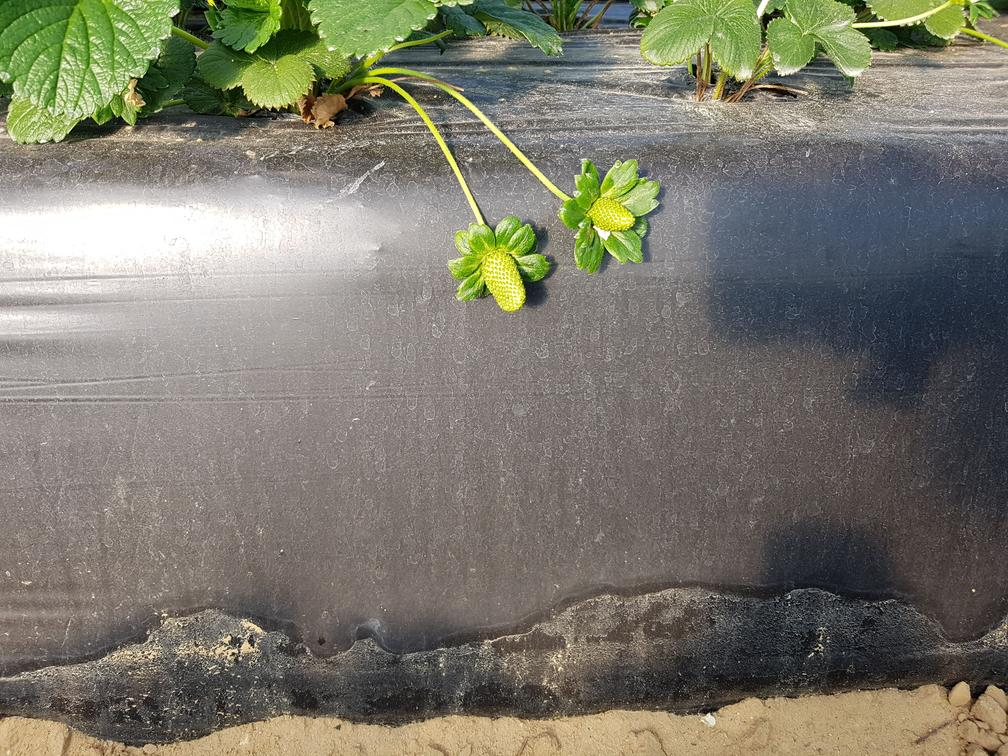Unripe: (476, 254, 536, 316), (587, 194, 645, 241)
